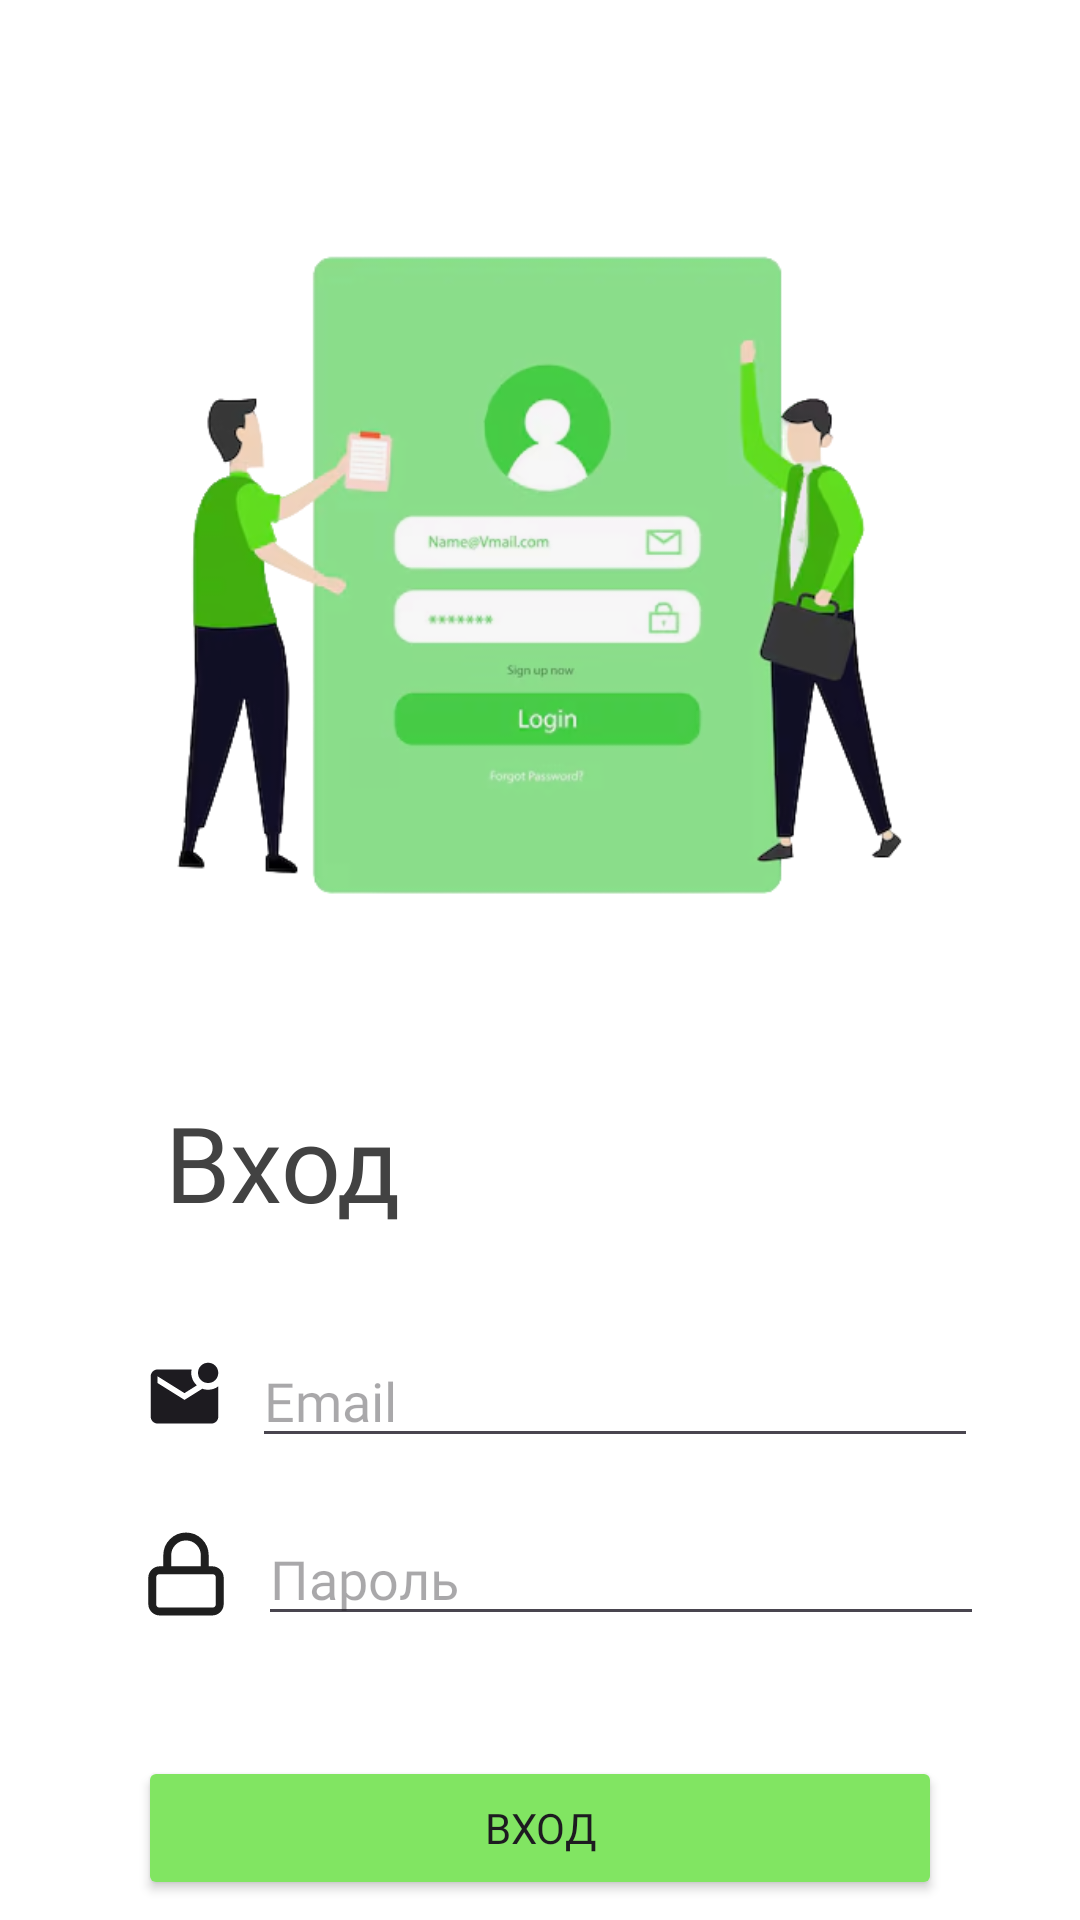

Named icons in this screenshot (1080×1920) and their centers, [x,y]:
lock: [186,1574]
